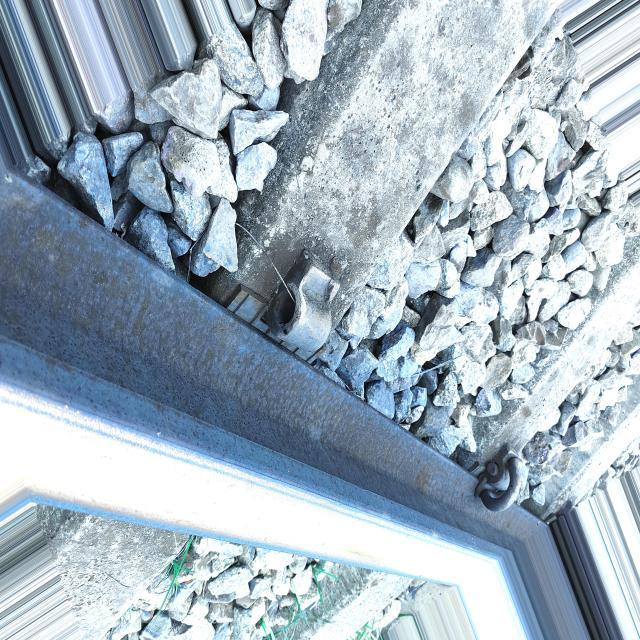Good Fasteners: (474, 452, 526, 511)
Missing Fastener: (265, 249, 341, 362)
